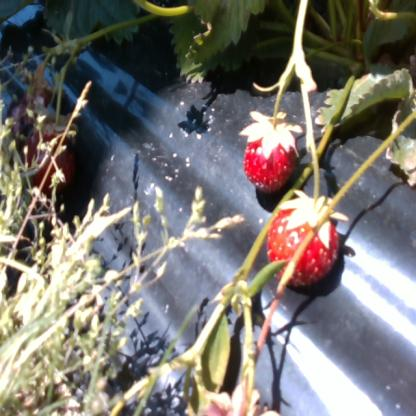ripe: (268, 202, 340, 285), (247, 131, 293, 189)
